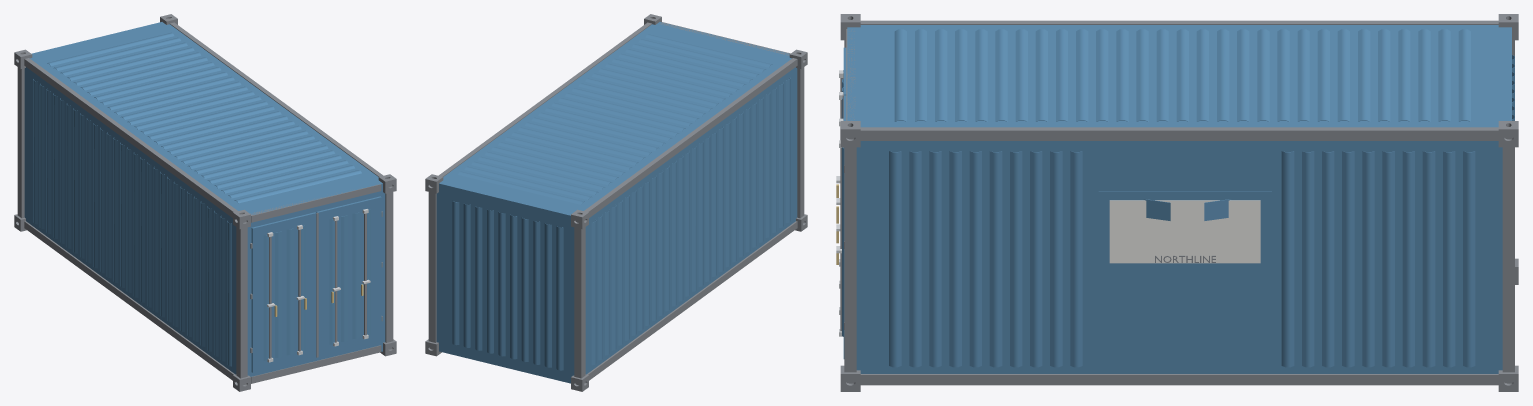
The model's file is Container_20_Blue.fbx.
3 renders of one model, left to right at view 1: azimuth 30°, elevation 25°; view 2: azimuth 150°, elevation 25°; view 3: azimuth 270°, elevation 25°, orthographic. The views are drawn at different scales.
Parts seen in each view (by area): view 1: LOD0; view 2: LOD0; view 3: LOD0.
Part boxes in pixels (left/top/right/bottom): LOD0: left=14, top=14, right=396, bottom=391; LOD0: left=425, top=14, right=807, bottom=391; LOD0: left=836, top=14, right=1518, bottom=391.
Size of what is drawn, in the model's own units: 245 by 259 by 610.
